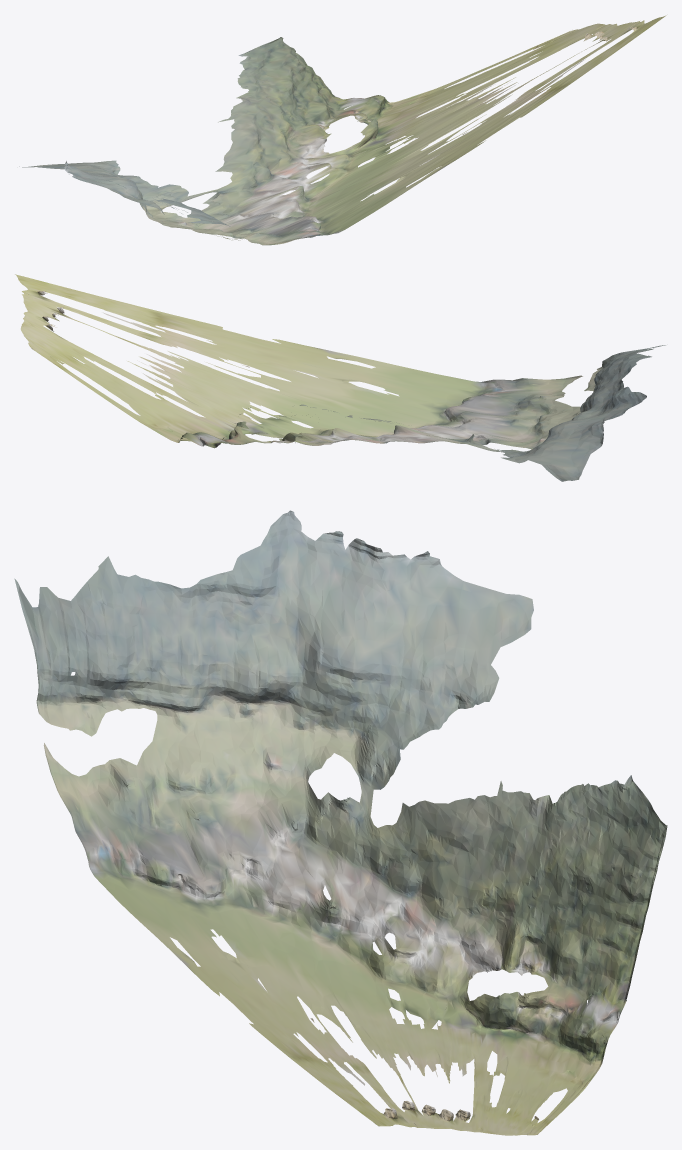
Rendered from render_lod2.glb.
3 renders of one model, top to bottom at view 1: azimuth 30°, elevation 25°; view 2: azimuth 150°, elevation 25°; view 3: azimuth 270°, elevation 25°, orthographic. The views are drawn at different scales.
Visible parts, largest first — view 1: geometry_0; view 2: geometry_0; view 3: geometry_0.
Part boxes in pixels (box(x1,y1,x2,y2)): geometry_0: box(19, 15, 666, 245); geometry_0: box(15, 274, 665, 481); geometry_0: box(14, 510, 667, 1135).
Bounding box in the file's own units: 33.16 × 4.9 × 15.36.
